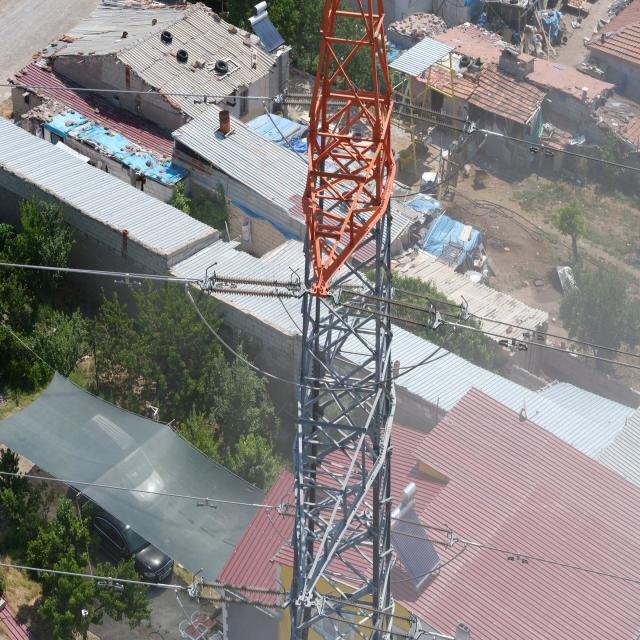voltage_line: (292, 0, 406, 638)
